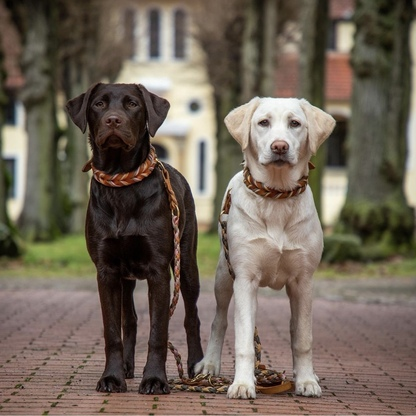labrado: (62, 79, 205, 395), (198, 92, 339, 403)
